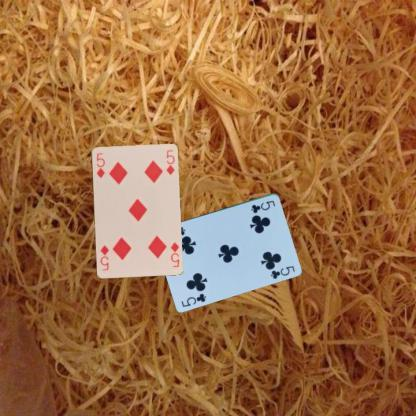5c: (178, 290, 208, 309), (249, 198, 276, 214)
5d: (94, 150, 106, 179), (168, 239, 180, 268)
